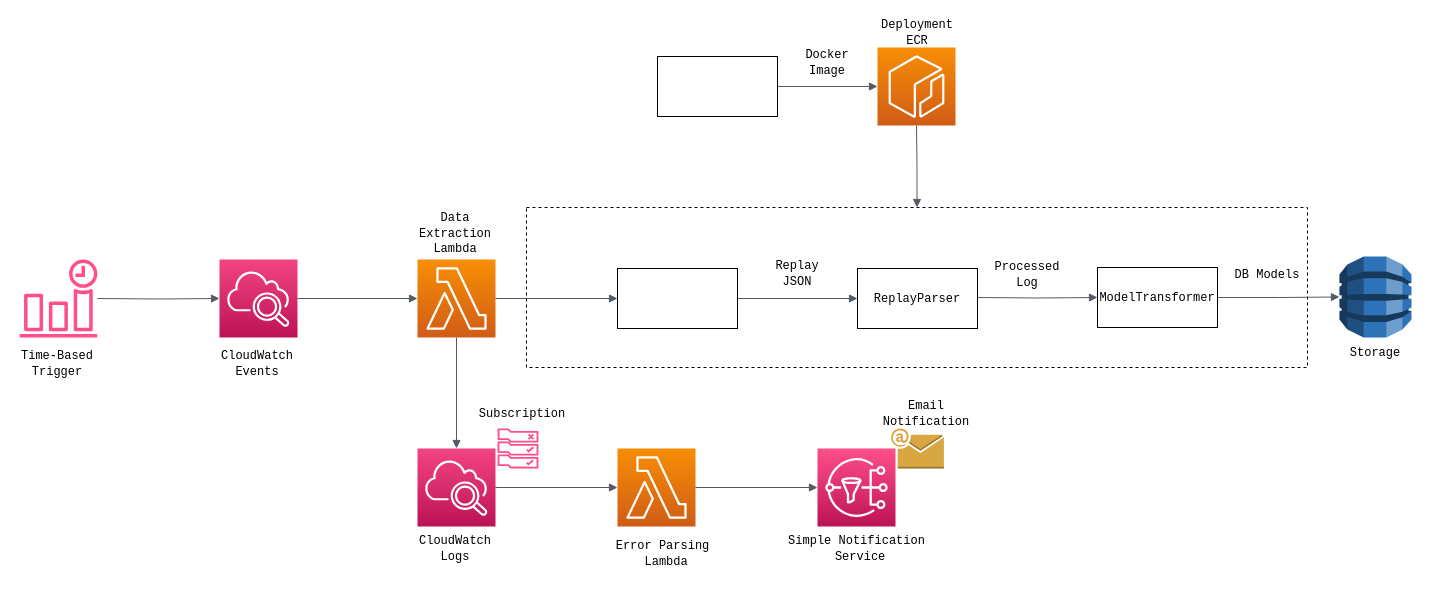
This 1432x591 diagram has some shape labels left out. The centre of each missing label's shape, as x and y in pixels:
"CI Pipeline" belongs at (x=717, y=86).
"DataExtractor" belongs at (x=677, y=298).
